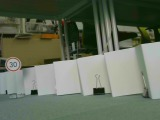speed_30: (4, 56, 22, 73)
